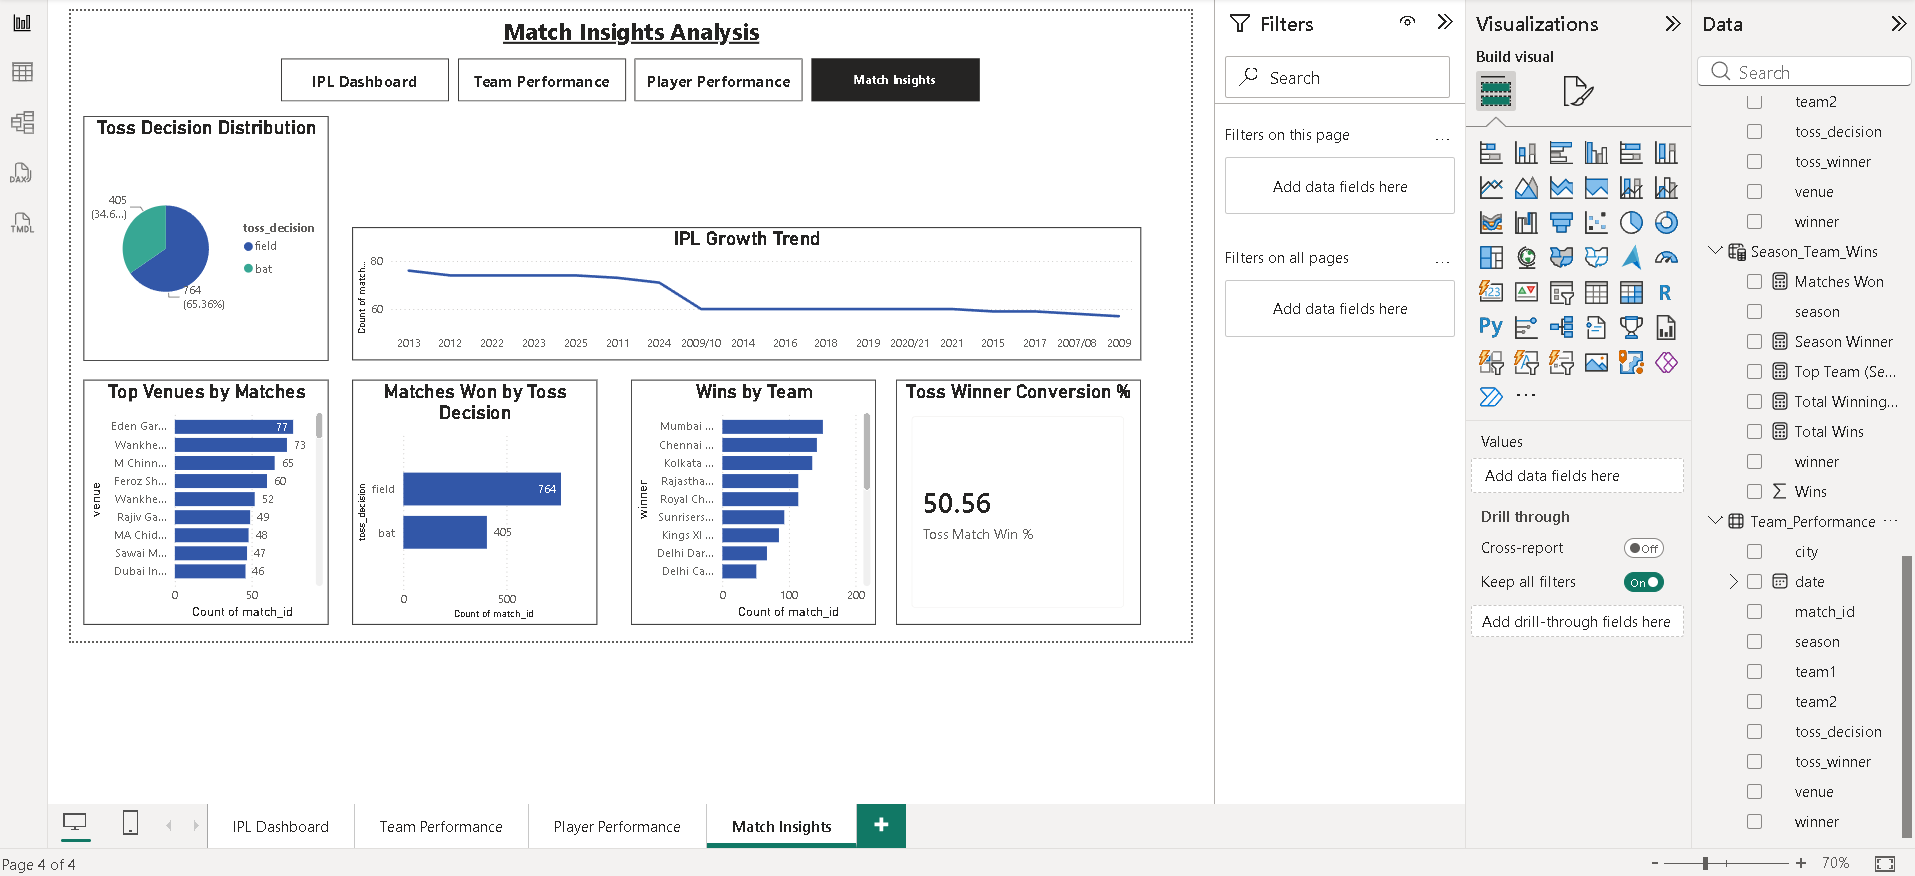

Layout of this report page (visuals, bound fields, positions):
{"tool":"powerbi","page":{"name":"Match Insights","canvas":[1280,720],"ordinal":3},"visuals":[{"type":"pieChart","title":"Toss Decision Distribution","fields":{"Category":["matches_cleaned.toss_decision"],"Y":["CountNonNull(matches_cleaned.match_id)"]},"box":[13.7,119.4,279.9,279.9],"z":0},{"type":"clusteredBarChart","title":"Matches Won by Toss Decision","fields":{"Category":["matches_cleaned.toss_decision"],"Y":["CountNonNull(matches_cleaned.match_id)"]},"box":[321.1,421.3,279.9,279.9],"z":1000},{"type":"clusteredBarChart","title":"Top Venues by Matches","fields":{"Category":["matches_cleaned.venue"],"Y":["CountNonNull(matches_cleaned.match_id)"]},"box":[13.7,421.3,279.9,279.9],"z":2000},{"type":"cardVisual","title":"Toss Winner Conversion %","fields":{"Data":["deliveries_cleaned.Toss Match Win %"]},"box":[942.7,421.3,279.9,279.9],"z":3000},{"type":"clusteredBarChart","title":"Wins by Team","fields":{"Category":["matches_cleaned.winner"],"Y":["CountNonNull(matches_cleaned.match_id)"]},"box":[640,421.4,280,280],"z":4000},{"type":"lineChart","title":"IPL Growth Trend","fields":{"Category":["matches_cleaned.season"],"Y":["CountNonNull(matches_cleaned.match_id)"]},"box":[321.1,247,901.5,152.3],"z":5000},{"type":"textbox","box":[0,0,1280.3,60.4],"z":6000},{"type":"pageNavigator","box":[240.1,54.9,800,49.4],"z":7000}]}

Visuals, with their boxes on the page's 1280x720 design canvas (x1, y1, x2, y2). These are canvas units, not pixel positions in the 1915x876 screenshot, which may show the page scaled, cropped or inside an application window:
"Toss Decision Distribution" pieChart: (14,119,294,399)
"Matches Won by Toss Decision" clusteredBarChart: (321,421,601,701)
"Top Venues by Matches" clusteredBarChart: (14,421,294,701)
"Toss Winner Conversion %" cardVisual: (943,421,1223,701)
"Wins by Team" clusteredBarChart: (640,421,920,701)
"IPL Growth Trend" lineChart: (321,247,1223,399)
textbox: (0,0,1280,60)
pageNavigator: (240,55,1040,104)
